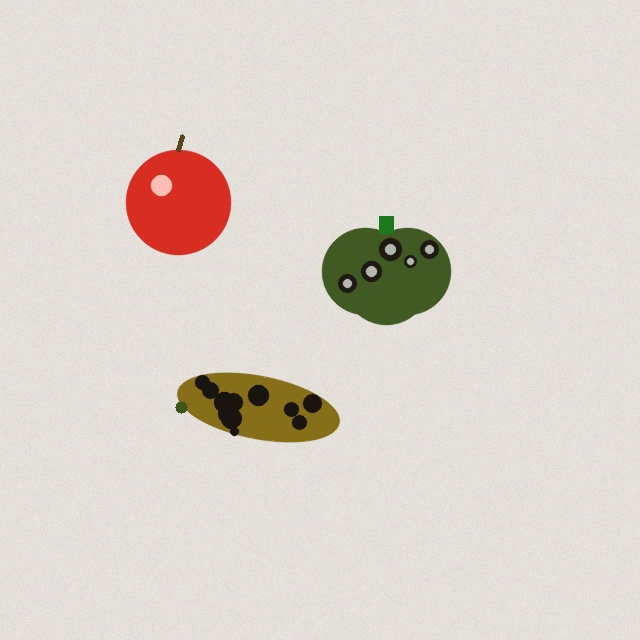Fresh apple: (126, 136, 230, 254)
Rotten banana: (172, 369, 344, 445)
Rotten bell pepper: (322, 216, 450, 324)
